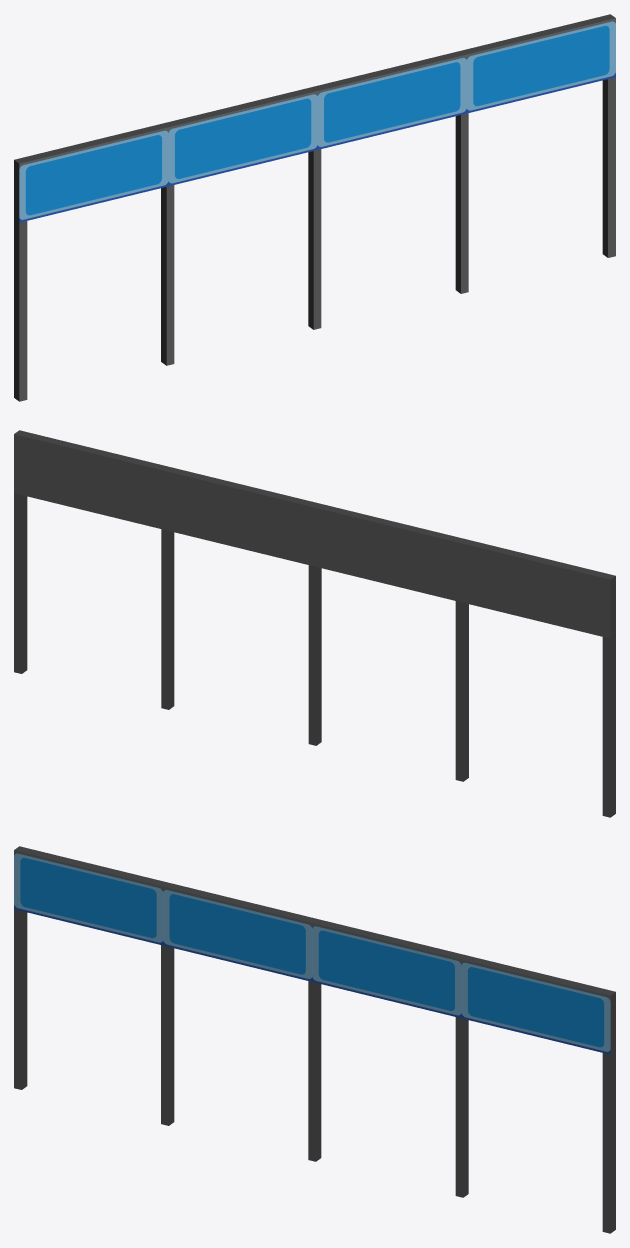
The model's file is stage.fbx.
The picture shows the model from 3 angles, top to bottom: view 1: azimuth 30°, elevation 25°; view 2: azimuth 150°, elevation 25°; view 3: azimuth 330°, elevation 25°; orthographic projection.
Visible parts, largest first — view 1: Cube.002; view 2: Cube.002; view 3: Cube.002.
Part boxes in pixels (left/top/right/bottom): Cube.002: left=14, top=14, right=615, bottom=401; Cube.002: left=14, top=430, right=615, bottom=817; Cube.002: left=14, top=846, right=615, bottom=1233.
Size of the model in its own units: 6490 by 2474 by 102.
1 material, 1 textured.
